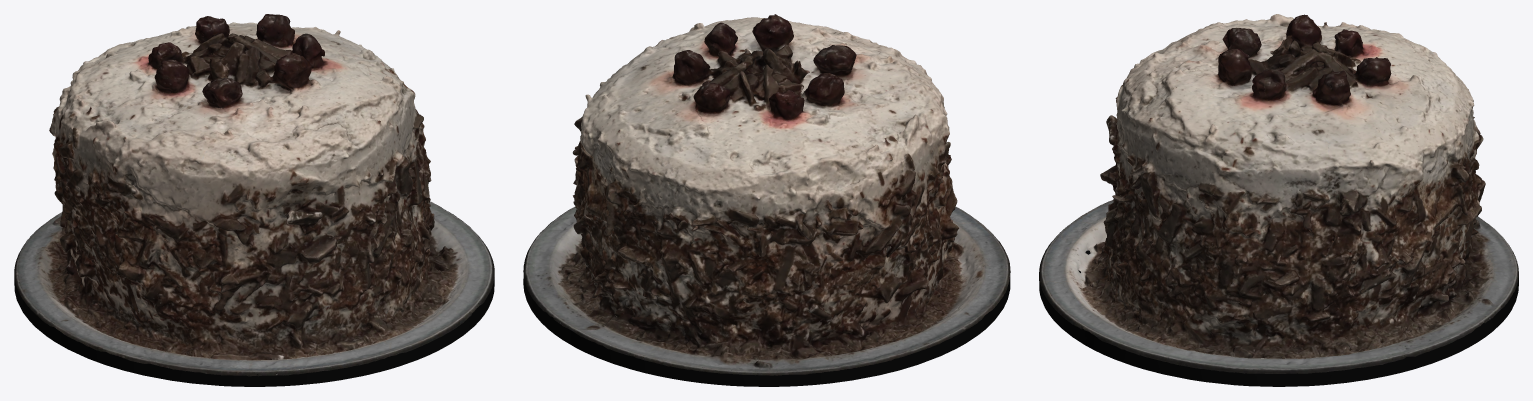
The model's file is blackforest.glb.
The picture shows the model from 3 angles, left to right: view 1: azimuth 30°, elevation 25°; view 2: azimuth 150°, elevation 25°; view 3: azimuth 270°, elevation 25°; orthographic projection.
Visible parts, largest first — view 1: BFG_Cake_BFG_Cake_01_0, base_base_0; view 2: BFG_Cake_BFG_Cake_01_0, base_base_0; view 3: BFG_Cake_BFG_Cake_01_0, base_base_0.
Part boxes in pixels (x1,y1,x2,y2): BFG_Cake_BFG_Cake_01_0: (14,14,494,376); base_base_0: (14,277,494,386); BFG_Cake_BFG_Cake_01_0: (523,14,1010,375); base_base_0: (523,272,1010,386); BFG_Cake_BFG_Cake_01_0: (1039,14,1518,373); base_base_0: (1039,250,1518,386).
Bounding box in the file's own units: 0.3 × 0.1683 × 0.3.
2 materials, 1 textured.
